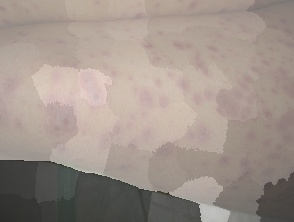SJS-TEN: (31, 3, 294, 222)
